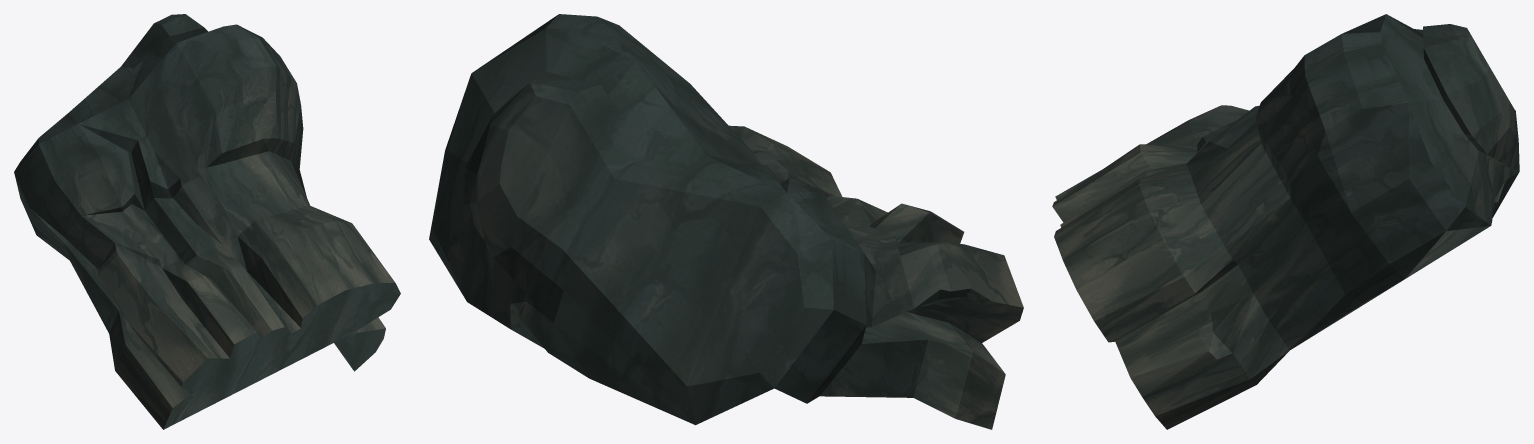
Rendered from ETC0610071.fbx.
The picture shows the model from 3 angles, left to right: view 1: azimuth 30°, elevation 25°; view 2: azimuth 150°, elevation 25°; view 3: azimuth 270°, elevation 25°; orthographic projection. The views are drawn at different scales.
Parts seen in each view (by area): view 1: smETC0610071; view 2: smETC0610071; view 3: smETC0610071.
Boxes of the visible parts, left/top/right/bottom form: smETC0610071: left=14, top=14, right=400, bottom=429; smETC0610071: left=429, top=14, right=1023, bottom=429; smETC0610071: left=1052, top=14, right=1519, bottom=429.
Bounding box in the file's own units: 198 × 215 × 247.
Materials: 1 (1 with a texture image).
